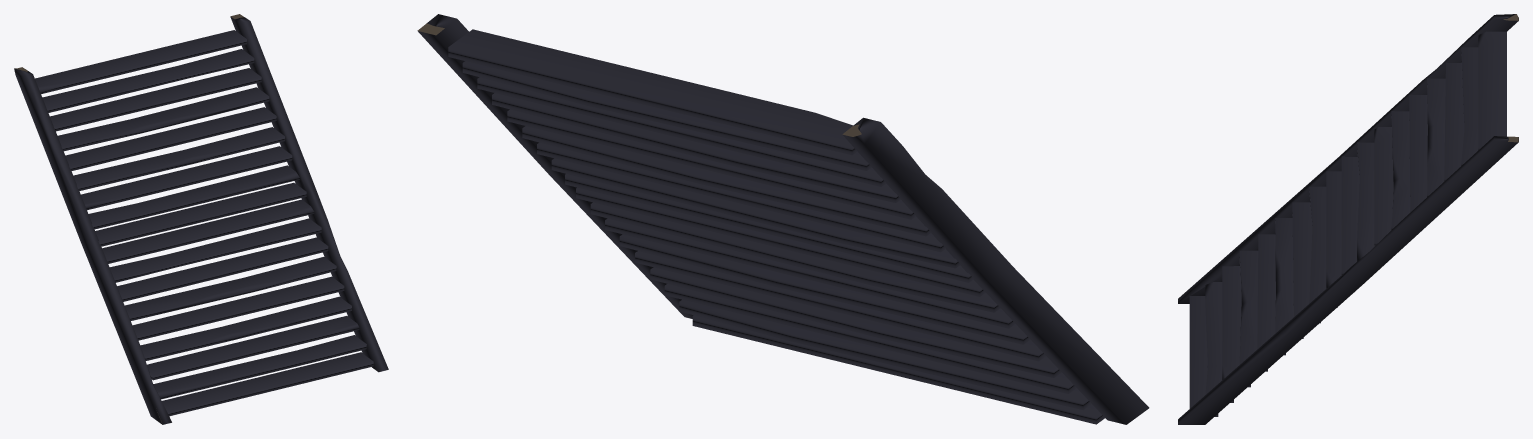
The model's file is SM_Bld_House_Stairs_04.fbx.
The picture shows the model from 3 angles, left to right: view 1: azimuth 30°, elevation 25°; view 2: azimuth 150°, elevation 25°; view 3: azimuth 270°, elevation 25°; orthographic projection. The views are drawn at different scales.
Parts seen in each view (by area): view 1: SM_Bld_House_Stairs_04_Outline; view 2: SM_Bld_House_Stairs_04_Outline; view 3: SM_Bld_House_Stairs_04_Outline.
Part boxes in pixels (left/top/right/bottom): SM_Bld_House_Stairs_04_Outline: left=14, top=16, right=388, bottom=424; SM_Bld_House_Stairs_04_Outline: left=418, top=14, right=1149, bottom=424; SM_Bld_House_Stairs_04_Outline: left=1178, top=14, right=1518, bottom=424.
Bounding box in the file's own units: 247 × 258 × 280.
